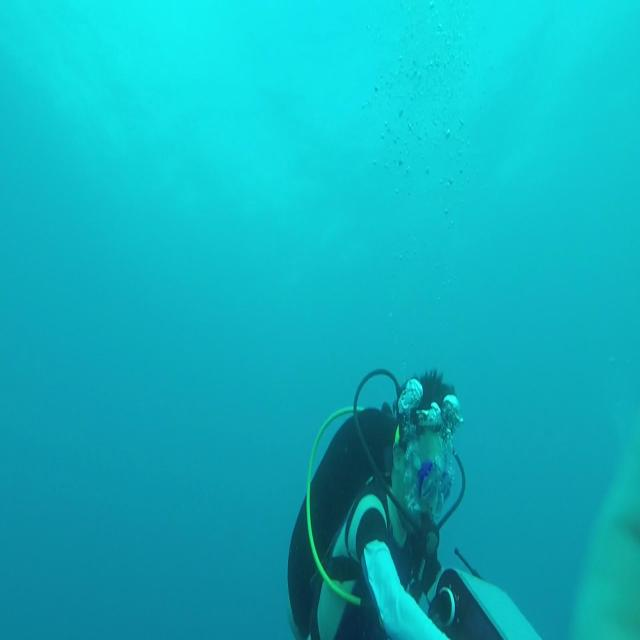human: (287, 367, 466, 638)
